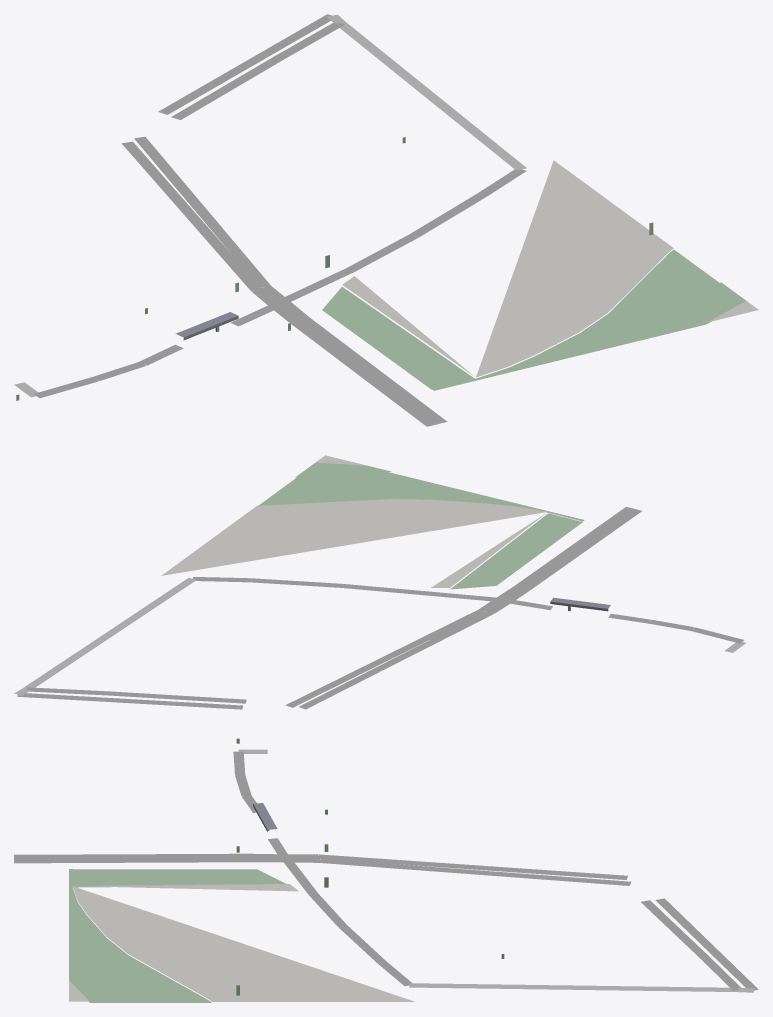
The picture shows the model from 3 angles, top to bottom: view 1: azimuth 30°, elevation 25°; view 2: azimuth 150°, elevation 25°; view 3: azimuth 270°, elevation 25°; orthographic projection. The views are drawn at different scales.
Size of the model in its own units: 426 by 14.91 by 506.
